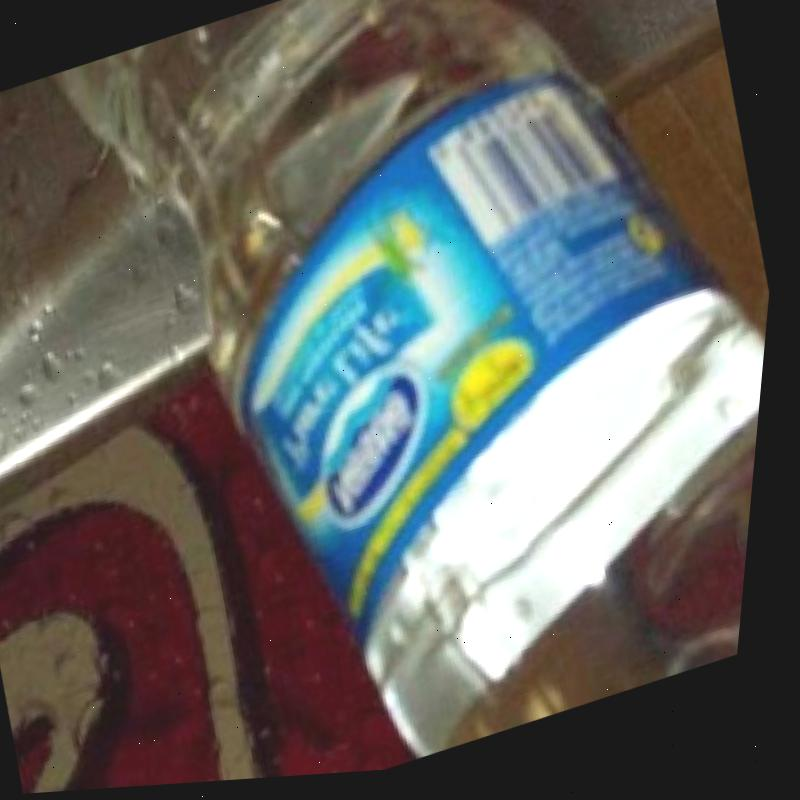botella: (5, 0, 800, 797)
